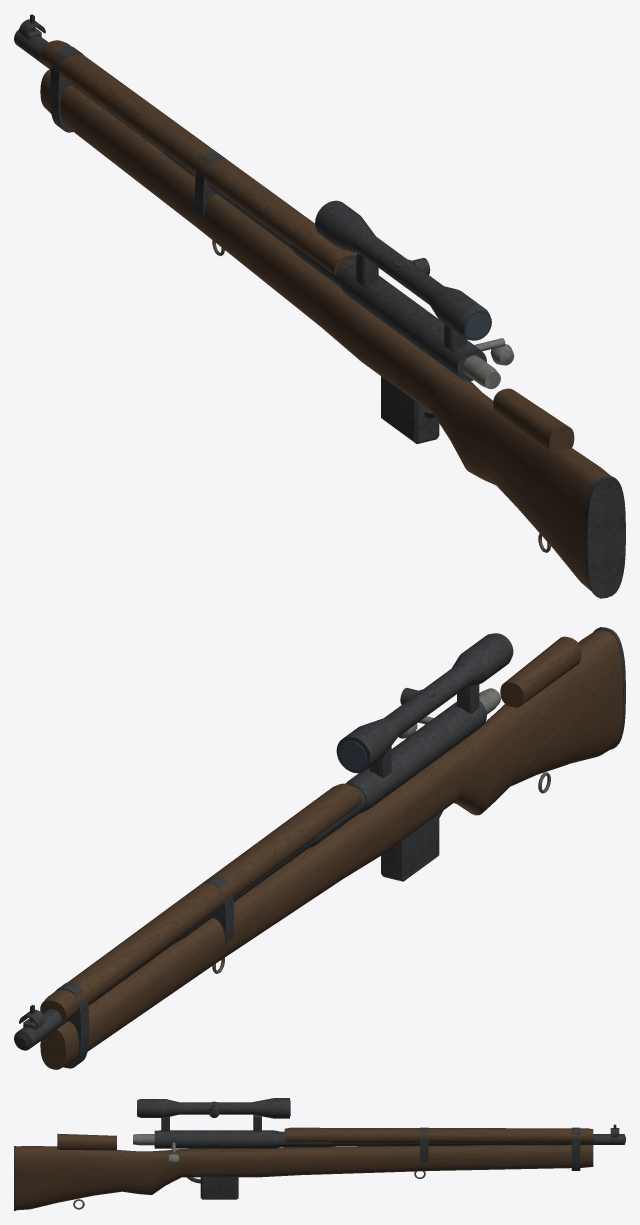
File: enfield.glb
3 views of the same model, one above another, from view 1: azimuth 30°, elevation 25°; view 2: azimuth 150°, elevation 25°; view 3: azimuth 270°, elevation 25° (orthographic). The views are drawn at different scales.
Visible parts, largest first — view 1: FP_body, TP_body, WD_body, FP_mag, FP_bolt; view 2: FP_body, TP_body, FP_mag, WD_body; view 3: FP_body, TP_body, FP_mag, FP_bolt, WD_body.
Boxes of the visible parts, <box> form: FP_body: <box>14,14,625,598</box>; TP_body: <box>16,33,625,598</box>; WD_body: <box>58,53,624,597</box>; FP_mag: <box>381,376,439,443</box>; FP_bolt: <box>463,338,514,389</box>; FP_body: <box>14,627,625,1069</box>; TP_body: <box>16,627,624,1068</box>; FP_mag: <box>381,814,439,881</box>; WD_body: <box>19,633,510,1043</box>; FP_body: <box>14,1098,625,1210</box>; TP_body: <box>14,1128,624,1210</box>; FP_mag: <box>200,1176,238,1199</box>; FP_bolt: <box>133,1134,179,1164</box>; WD_body: <box>137,1100,289,1117</box>.
Bounding box in the file's own units: 0.096 × 0.22 × 1.13.
6 materials, 5 textured.
